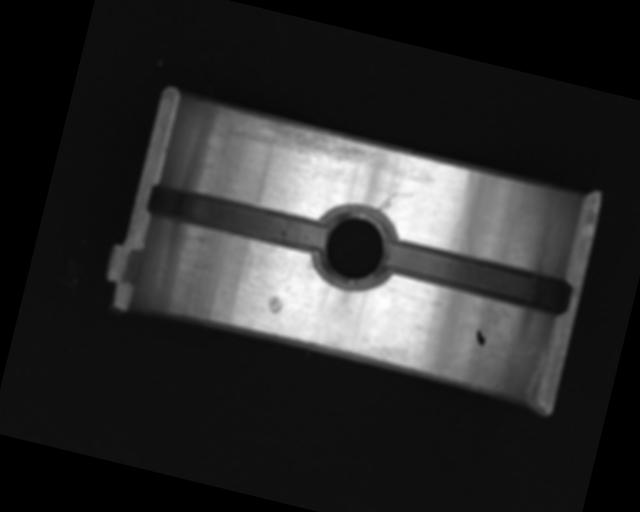blot: (472, 328, 489, 347)
bruise: (263, 293, 286, 316)
gap: (379, 235, 575, 318), (143, 180, 328, 257)
hole: (307, 197, 400, 296)
nick: (376, 187, 397, 215)
scratch: (215, 103, 382, 173)
